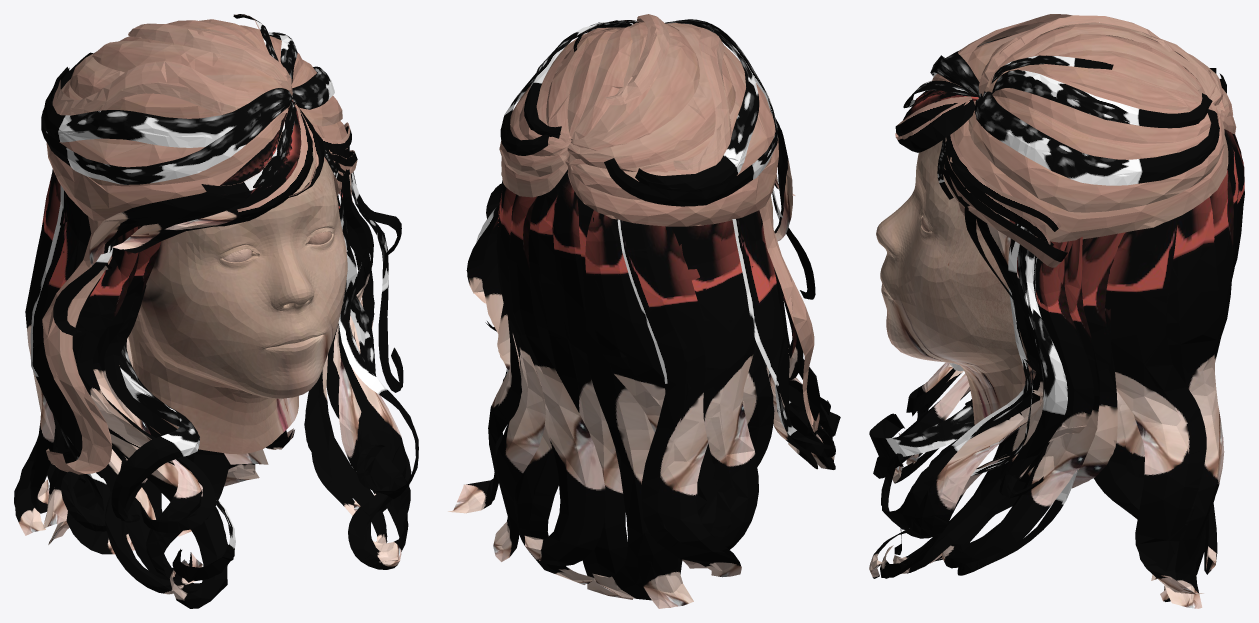
The picture shows the model from 3 angles, left to right: view 1: azimuth 30°, elevation 25°; view 2: azimuth 150°, elevation 25°; view 3: azimuth 270°, elevation 25°; orthographic projection. The views are drawn at different scales.
Visible parts, largest first — view 1: Head; view 2: Head; view 3: Head.
Boxes of the visible parts, x1,y1,x2,y2 form: Head: (14,14,418,608); Head: (448,14,840,608); Head: (869,14,1244,608).
Size of the model in its own units: 0.2729 by 0.4124 by 0.2464.
